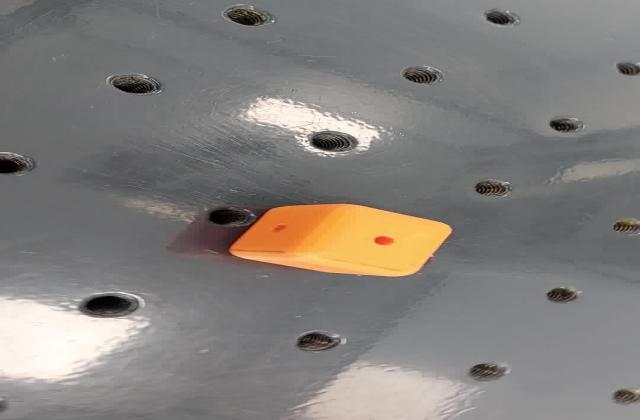cube: (215, 202, 460, 280)
